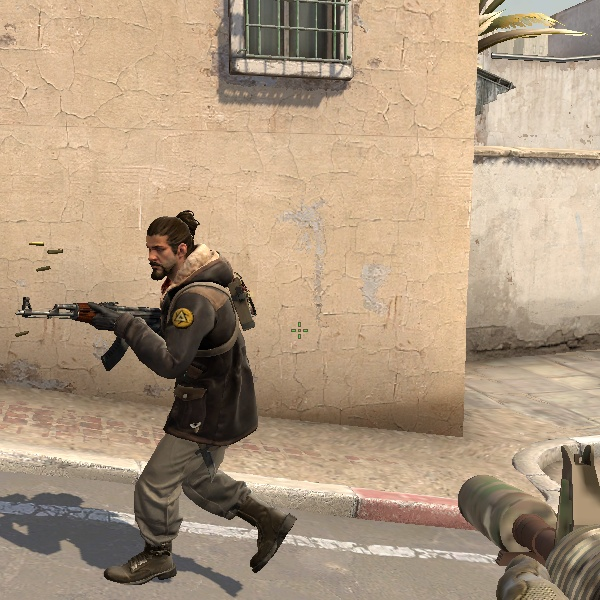t_body: (64, 202, 297, 594)
t_head: (126, 205, 219, 294)
